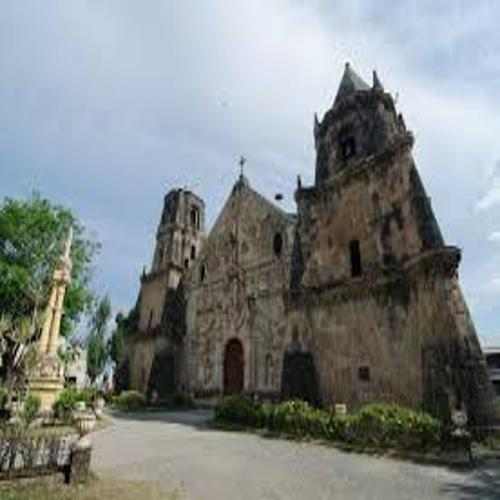Miagao Church: (121, 57, 500, 430)
